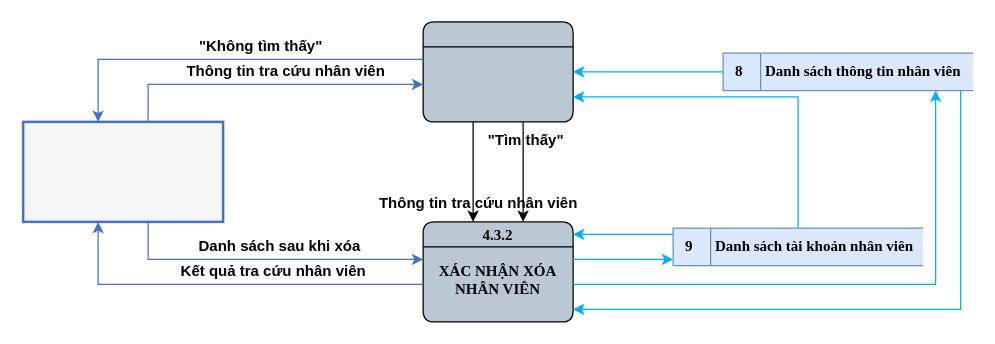
The diagram is 995 pixels wide and 344 high, and some of its shapes have lost their labels. The centre of each missing label's shape, as x and y in pixels:
4.3.1 TÌM KIẾM NHÂN VIÊN CẦN XÓA: the point at 497,71
NHÂN VIÊN QUẢN LÝ: the point at 122,171
